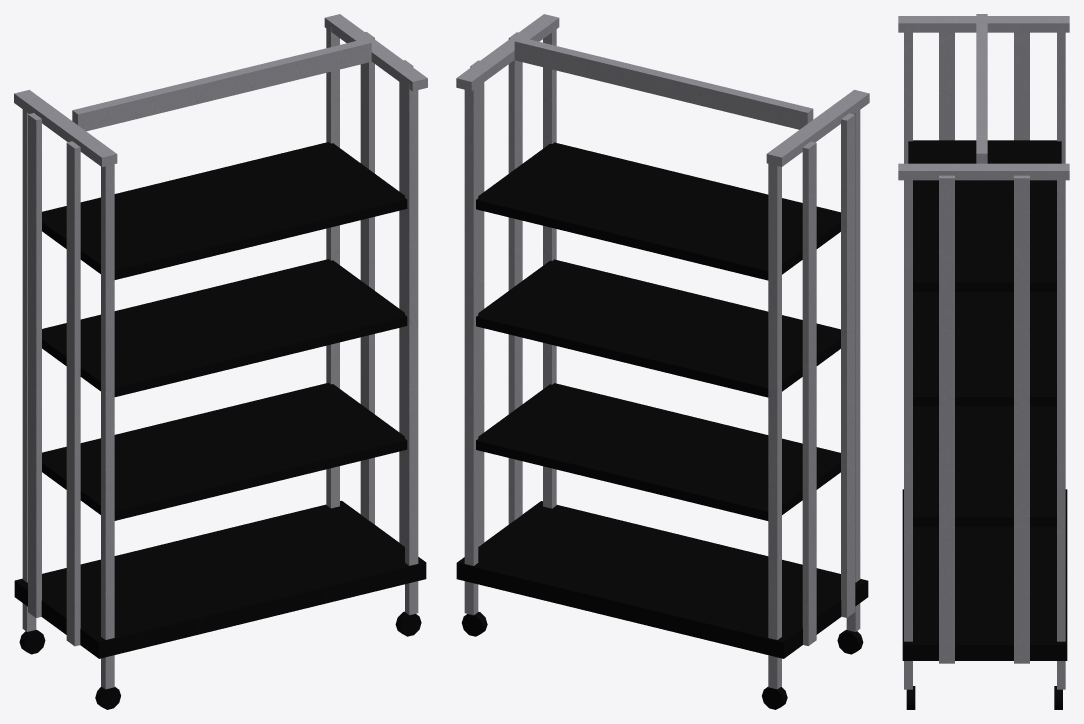
File: Rack_m.glb
3 renders of one model, left to right at view 1: azimuth 30°, elevation 25°; view 2: azimuth 150°, elevation 25°; view 3: azimuth 270°, elevation 25°, orthographic. The views are drawn at different scales.
Parts seen in each view (by area): view 1: Rack_m; view 2: Rack_m; view 3: Rack_m.
Boxes of the visible parts, x1,y1,x2,y2 form: Rack_m: [14, 14, 427, 709]; Rack_m: [456, 14, 869, 709]; Rack_m: [898, 14, 1069, 709].
Size of the model in its own units: 3.23 by 5.17 by 1.45.
2 materials, 2 textured.
